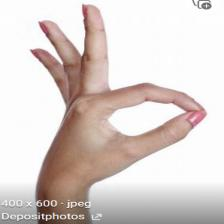five: (21, 4, 209, 173)
